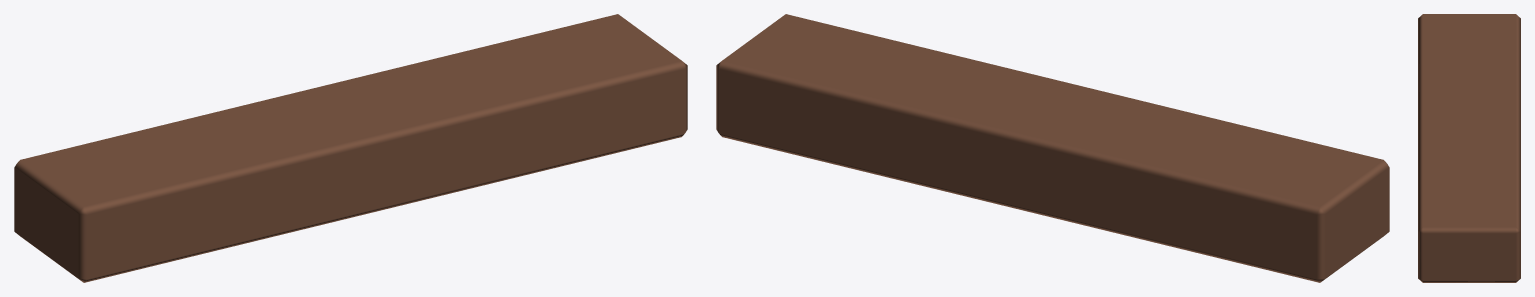
Rendered from ghost-town-cap.0a36a4b1.glb.
3 renders of one model, left to right at view 1: azimuth 30°, elevation 25°; view 2: azimuth 150°, elevation 25°; view 3: azimuth 270°, elevation 25°, orthographic. The views are drawn at different scales.
Visible parts, largest first — view 1: body; view 2: body; view 3: body.
Boxes of the visible parts, left/top/right/bottom form: body: left=14, top=14, right=687, bottom=282; body: left=716, top=14, right=1389, bottom=282; body: left=1418, top=14, right=1520, bottom=282.
Bounding box in the file's own units: 1 × 0.12 × 0.2.
